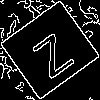Z: (25, 25, 75, 80)
